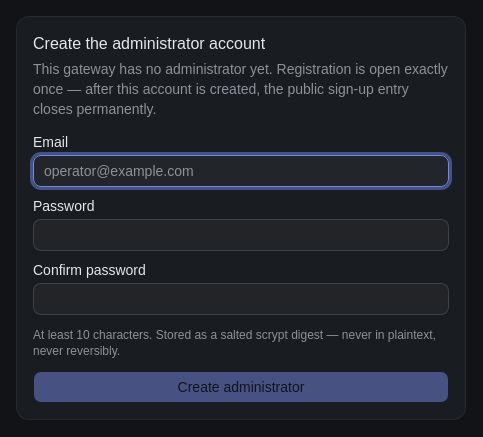
Test: AuthGate — first run › falls back to sign-in when registration was already taken
Expected: the text "Create the administrator account" is shown, [33,35,265,52]
In the field labelled "Email": (241, 171) [33,155,449,187], type "ops@aether.test"
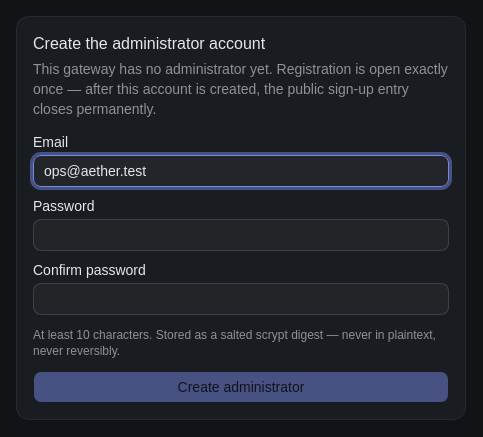
In the password field labelled "Password": (241, 235) [33,219,449,251], type "long-enough-password"
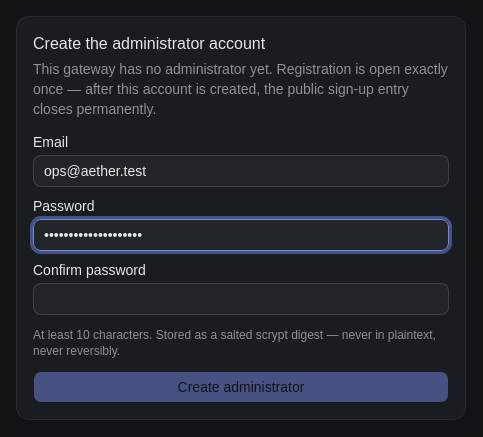
In the password field labelled "Confirm password": (241, 299) [33,283,449,315], type "long-enough-password"
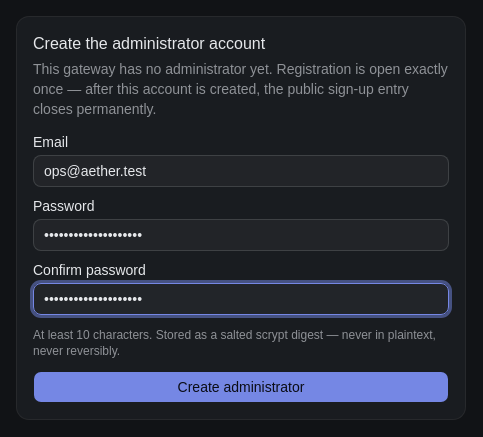
Click the button "Create administrator": (241, 387) [33,371,449,403]
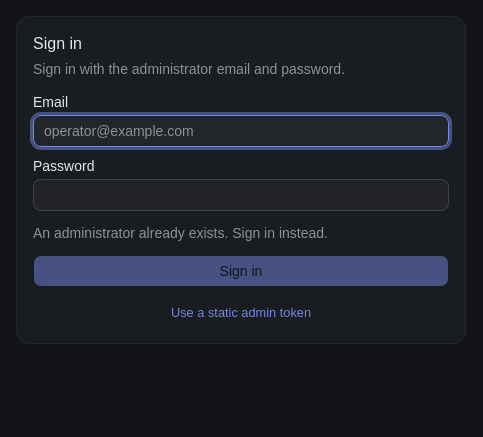
Result: the field labelled "Email" is shown at [33,115,449,147]
Result: the text "An administrator already exists. Sign in instead." is shown at [33,225,328,241]
